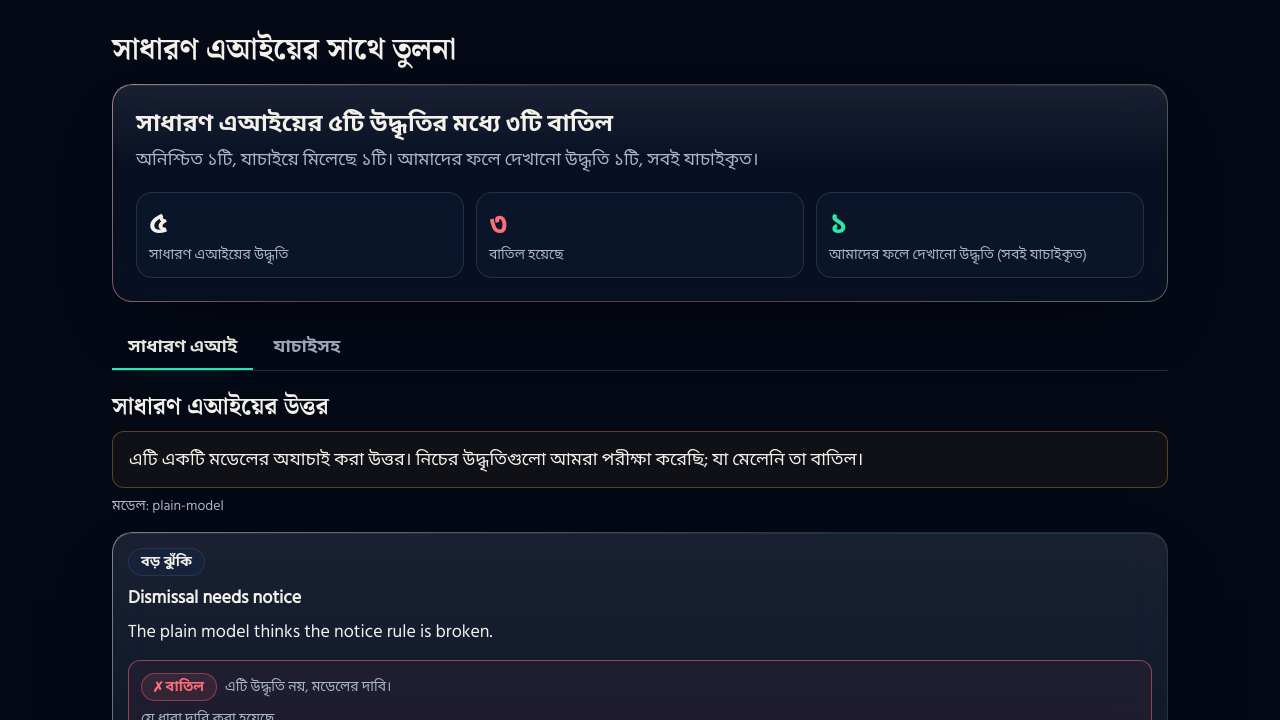
Test: CompareResultView › FR-72 shows two columns on a wide screen and two tabs on a phone
Later steps or results of the test are not shown.
Expected: the element "যাচাইসহ ফল" is not shown
Click the tab "যাচাইসহ": [307, 348] box [257,326,356,370]
(page scrolled)
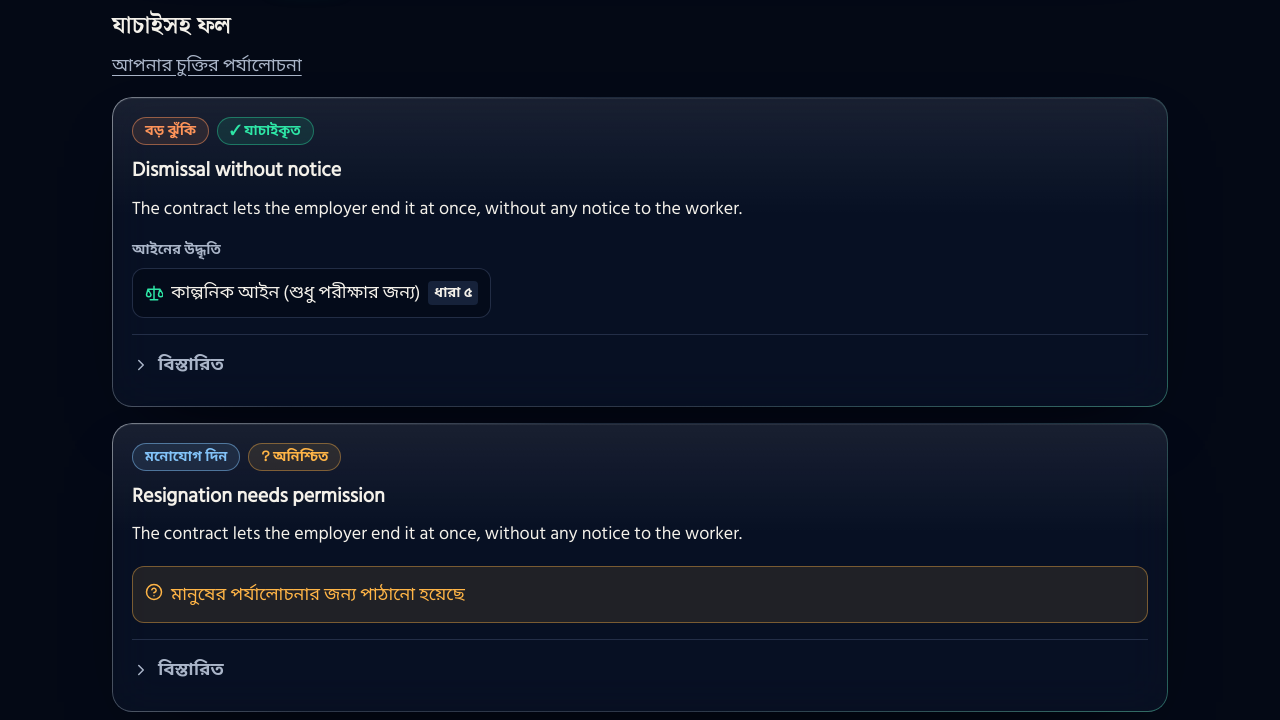
Now the element "যাচাইসহ ফল" is shown
Now the heading "সাধারণ এআইয়ের উত্তর" is gone
